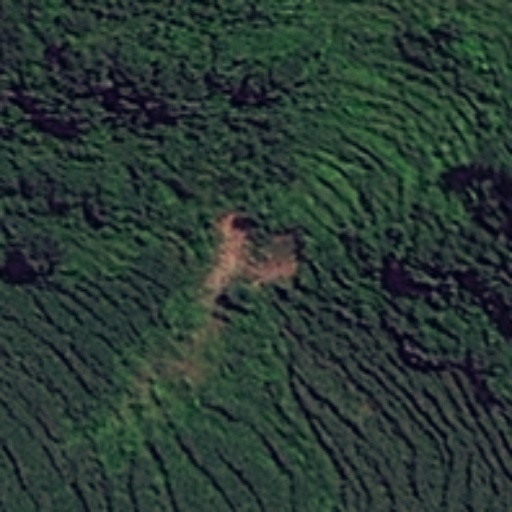landslide: (211, 212, 299, 293)
